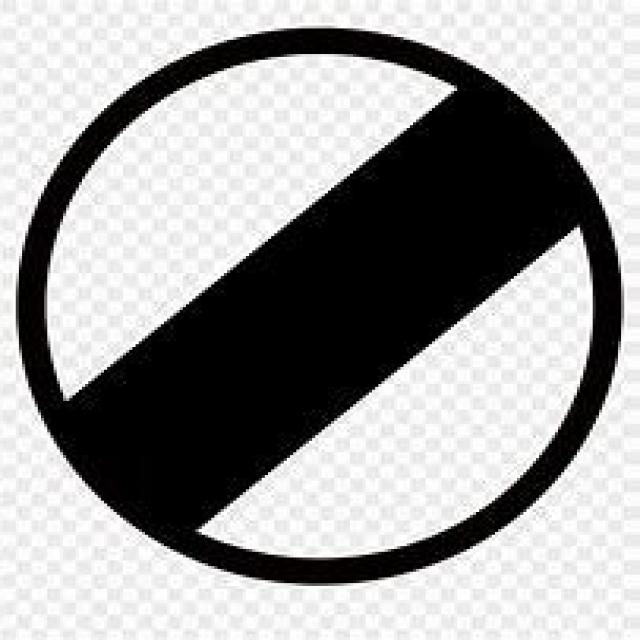RESTRICTION_ENDS: (13, 23, 621, 583)
